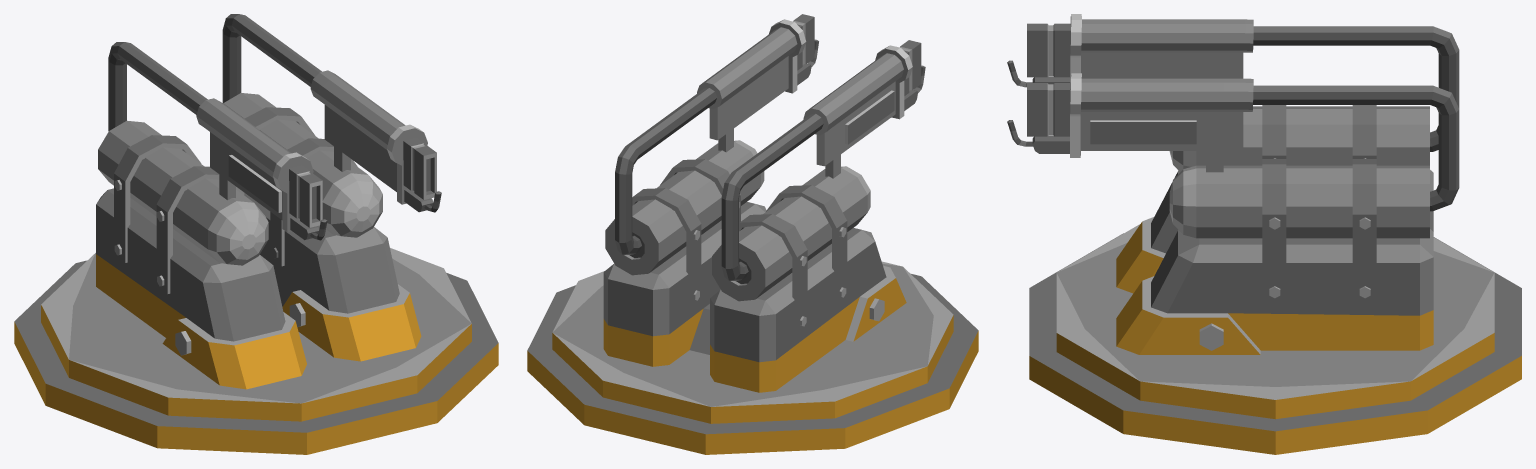
Rendered from tower_napalm_yellow_1.fbx.
The picture shows the model from 3 angles, left to right: view 1: azimuth 30°, elevation 25°; view 2: azimuth 150°, elevation 25°; view 3: azimuth 270°, elevation 25°; orthographic projection. The views are drawn at different scales.
Visible parts, largest first — view 1: top_napalm_yellow_1, tower_napalm_yellow_1; view 2: top_napalm_yellow_1, tower_napalm_yellow_1; view 3: top_napalm_yellow_1, tower_napalm_yellow_1.
Part boxes in pixels (box(x1,y1,x2,y2)): top_napalm_yellow_1: box(96, 14, 441, 389); tower_napalm_yellow_1: box(14, 248, 498, 454); top_napalm_yellow_1: box(603, 14, 925, 392); tower_napalm_yellow_1: box(527, 261, 978, 454); top_napalm_yellow_1: box(1007, 14, 1459, 354); tower_napalm_yellow_1: box(1029, 224, 1521, 454).
Size of the model in its own units: 170 by 109 by 169.
